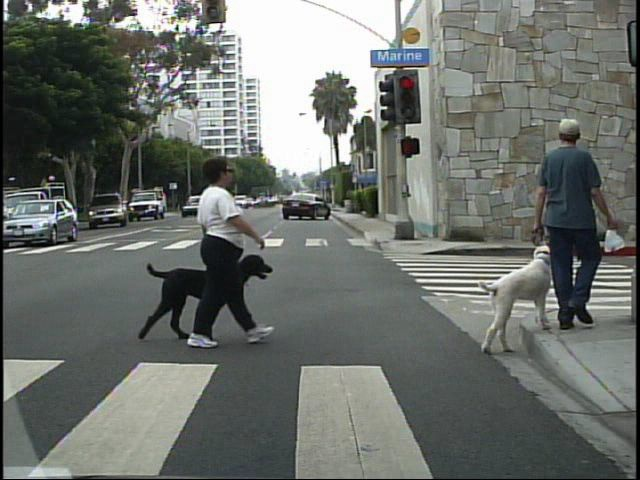person: (536, 112, 625, 344), (176, 145, 267, 349)
